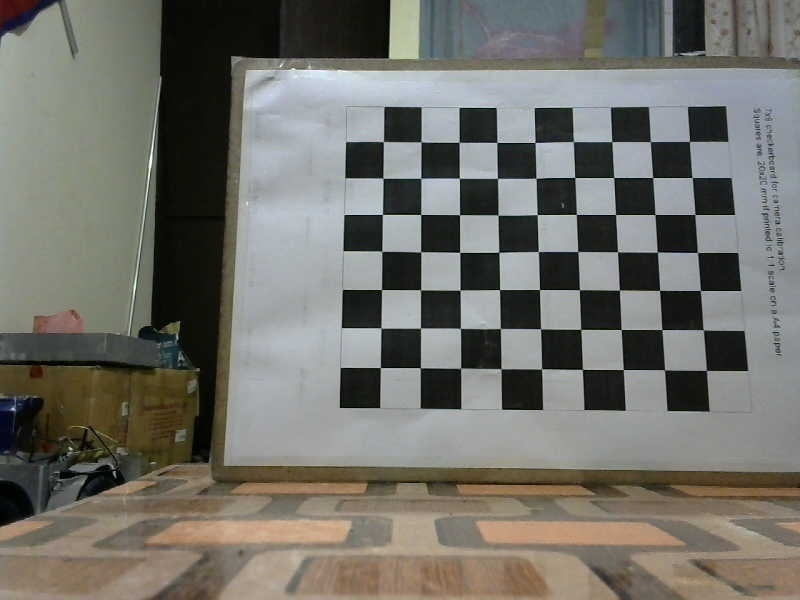block: (235, 58, 798, 479)
